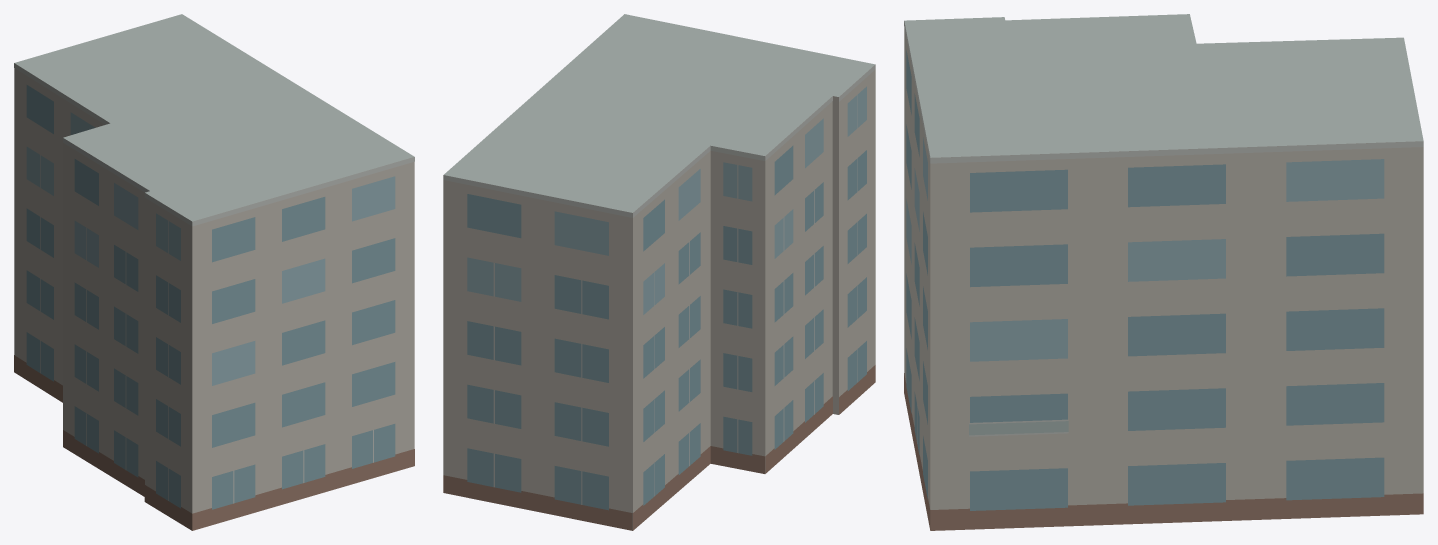
The model's file is survey-upis-32532732.glb.
3 views of the same model, side by side, from view 1: azimuth 30°, elevation 25°; view 2: azimuth 150°, elevation 25°; view 3: azimuth 270°, elevation 25° (orthographic). The views are drawn at different scales.
Visible parts, largest first — view 1: survey-upis-32532732.tmp; view 2: survey-upis-32532732.tmp; view 3: survey-upis-32532732.tmp.
Part boxes in pixels (<box>): survey-upis-32532732.tmp: <box>14,14,414,530</box>; survey-upis-32532732.tmp: <box>443,14,875,530</box>; survey-upis-32532732.tmp: <box>904,14,1423,530</box>.
Size of the model in its own units: 12.78 by 15.45 by 19.51.
